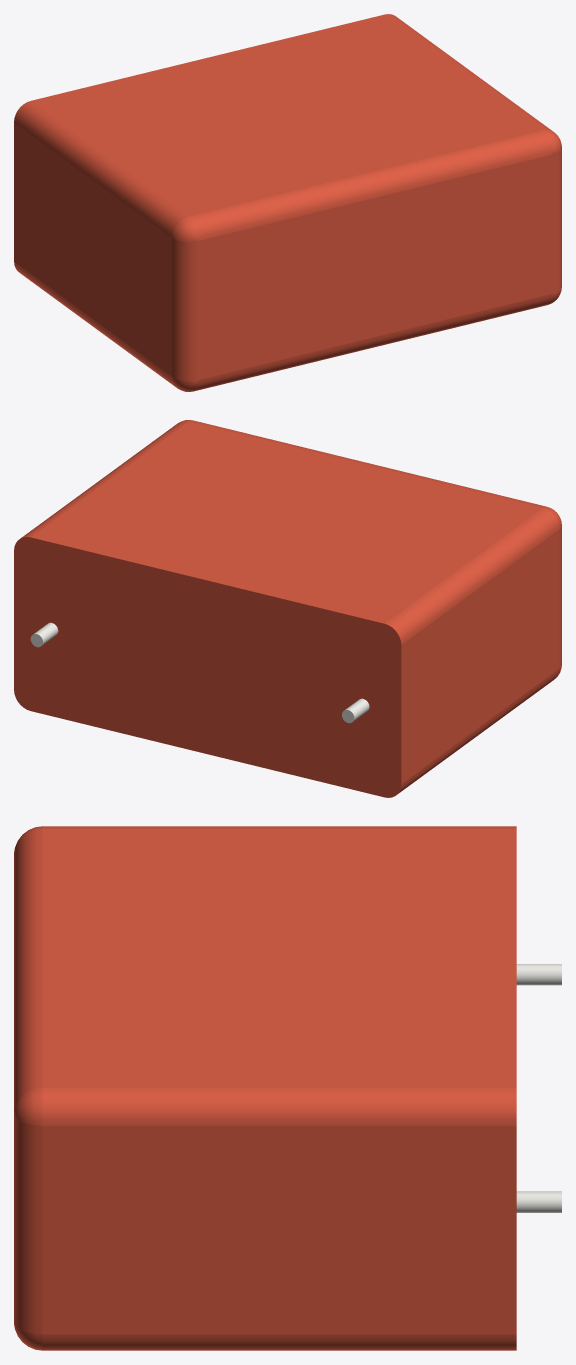
Rendered from C_Rect_L28.0mm_W12.0mm_P22.50mm_MKS4.glb.
3 renders of one model, top to bottom at view 1: azimuth 30°, elevation 25°; view 2: azimuth 150°, elevation 25°; view 3: azimuth 270°, elevation 25°, orthographic. The views are drawn at different scales.
Parts seen in each view (by area): view 1: Shape_IndexedFaceSet.009, Shape_IndexedFaceSet.007, Shape_IndexedFaceSet, Shape_IndexedFaceSet.016, Shape_IndexedFaceSet.004, Shape_IndexedFaceSet.015, Shape_IndexedFaceSet.002, Shape_IndexedFaceSet.017, Shape_IndexedFaceSet.001, Shape_IndexedFaceSet.011, Shape_IndexedFaceSet.008; view 2: Shape_IndexedFaceSet.003, Shape_IndexedFaceSet.009, Shape_IndexedFaceSet, Shape_IndexedFaceSet.004, Shape_IndexedFaceSet.001, Shape_IndexedFaceSet.011, Shape_IndexedFaceSet.016; view 3: Shape_IndexedFaceSet.009, Shape_IndexedFaceSet.012, Shape_IndexedFaceSet.011, Shape_IndexedFaceSet.010, Shape_IndexedFaceSet.016, Shape_IndexedFaceSet.017, Shape_IndexedFaceSet.004, Shape_IndexedFaceSet.014, Shape_IndexedFaceSet.013, Shape_IndexedFaceSet.019.
Boxes of the visible parts, x1,y1,x2,y2 form: Shape_IndexedFaceSet.009: (31, 14, 542, 216); Shape_IndexedFaceSet.007: (198, 154, 552, 379); Shape_IndexedFaceSet: (14, 122, 171, 376); Shape_IndexedFaceSet.016: (189, 130, 552, 240); Shape_IndexedFaceSet.004: (14, 101, 188, 237); Shape_IndexedFaceSet.015: (194, 294, 552, 391); Shape_IndexedFaceSet.002: (172, 238, 198, 380); Shape_IndexedFaceSet.017: (552, 149, 561, 293); Shape_IndexedFaceSet.001: (14, 261, 175, 386); Shape_IndexedFaceSet.011: (385, 14, 551, 130); Shape_IndexedFaceSet.008: (172, 216, 198, 241); Shape_IndexedFaceSet.003: (14, 537, 401, 797); Shape_IndexedFaceSet.009: (31, 421, 542, 623); Shape_IndexedFaceSet: (401, 530, 559, 783); Shape_IndexedFaceSet.004: (385, 508, 559, 644); Shape_IndexedFaceSet.001: (397, 669, 559, 794); Shape_IndexedFaceSet.011: (21, 421, 187, 537); Shape_IndexedFaceSet.016: (189, 420, 545, 507); Shape_IndexedFaceSet.009: (42, 829, 516, 1087); Shape_IndexedFaceSet.012: (42, 1126, 516, 1334); Shape_IndexedFaceSet.011: (42, 1088, 516, 1125); Shape_IndexedFaceSet.010: (42, 1334, 516, 1350); Shape_IndexedFaceSet.016: (14, 829, 42, 1111); Shape_IndexedFaceSet.017: (14, 1114, 42, 1333); Shape_IndexedFaceSet.004: (42, 826, 516, 828); Shape_IndexedFaceSet.014: (516, 1191, 561, 1212); Shape_IndexedFaceSet.013: (516, 964, 561, 985); Shape_IndexedFaceSet.019: (14, 1088, 42, 1125).
Bounding box in the file's own units: 11.02 × 4.72 × 9.02.
